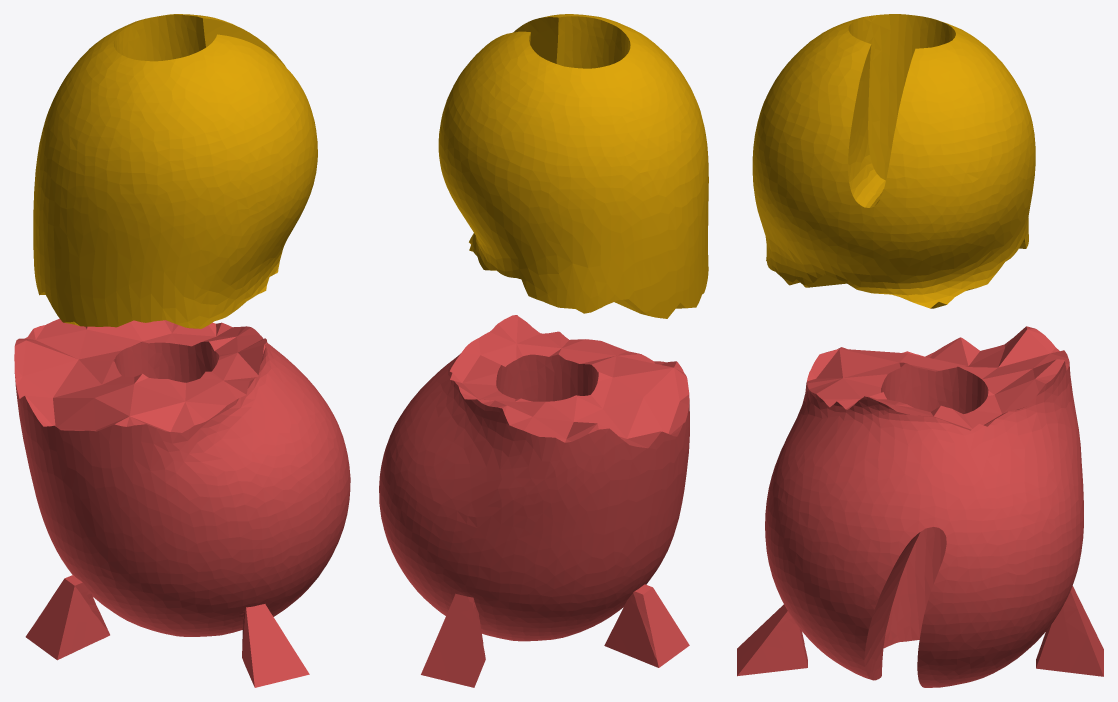
The model's file is fractured_7_2pcs_transformed.glb.
3 views of the same model, side by side, from view 1: azimuth 30°, elevation 25°; view 2: azimuth 150°, elevation 25°; view 3: azimuth 270°, elevation 25° (orthographic). The views are drawn at different scales.
Parts seen in each view (by area): view 1: piece_1.obj, piece_0.obj; view 2: piece_1.obj, piece_0.obj; view 3: piece_1.obj, piece_0.obj.
Part boxes in pixels (box(x1,y1,x2,y2)): piece_1.obj: box(14, 318, 350, 687); piece_0.obj: box(33, 14, 317, 328); piece_1.obj: box(379, 315, 689, 687); piece_0.obj: box(438, 14, 708, 318); piece_1.obj: box(737, 326, 1103, 687); piece_0.obj: box(752, 14, 1035, 308).
Size of the model in its own units: 0.6302 by 1.25 by 0.6699.
